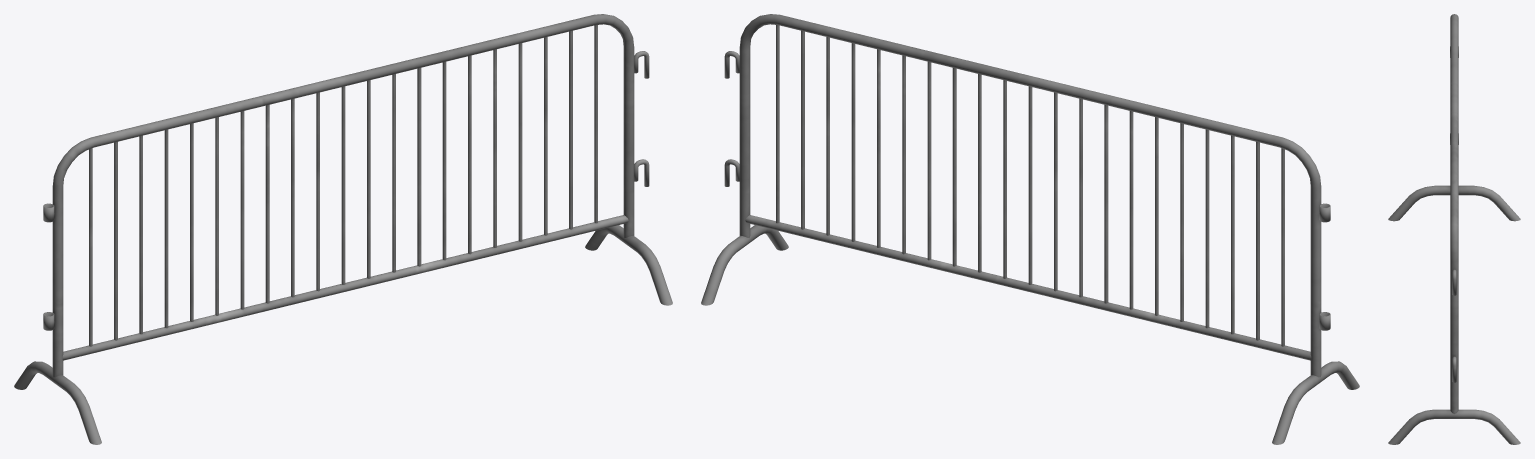
Rendered from crowd-barrier.glb.
3 views of the same model, side by side, from view 1: azimuth 30°, elevation 25°; view 2: azimuth 150°, elevation 25°; view 3: azimuth 270°, elevation 25° (orthographic). The views are drawn at different scales.
Visible parts, largest first — view 1: Fence-Barricade_03_0; view 2: Fence-Barricade_03_0; view 3: Fence-Barricade_03_0.
Boxes of the visible parts, x1,y1,x2,y2 form: Fence-Barricade_03_0: (14,14,672,444); Fence-Barricade_03_0: (701,14,1359,444); Fence-Barricade_03_0: (1388,14,1520,444).
Size of the model in its own units: 2.1 by 0.8896 by 0.4976.
1 material, 1 textured.
